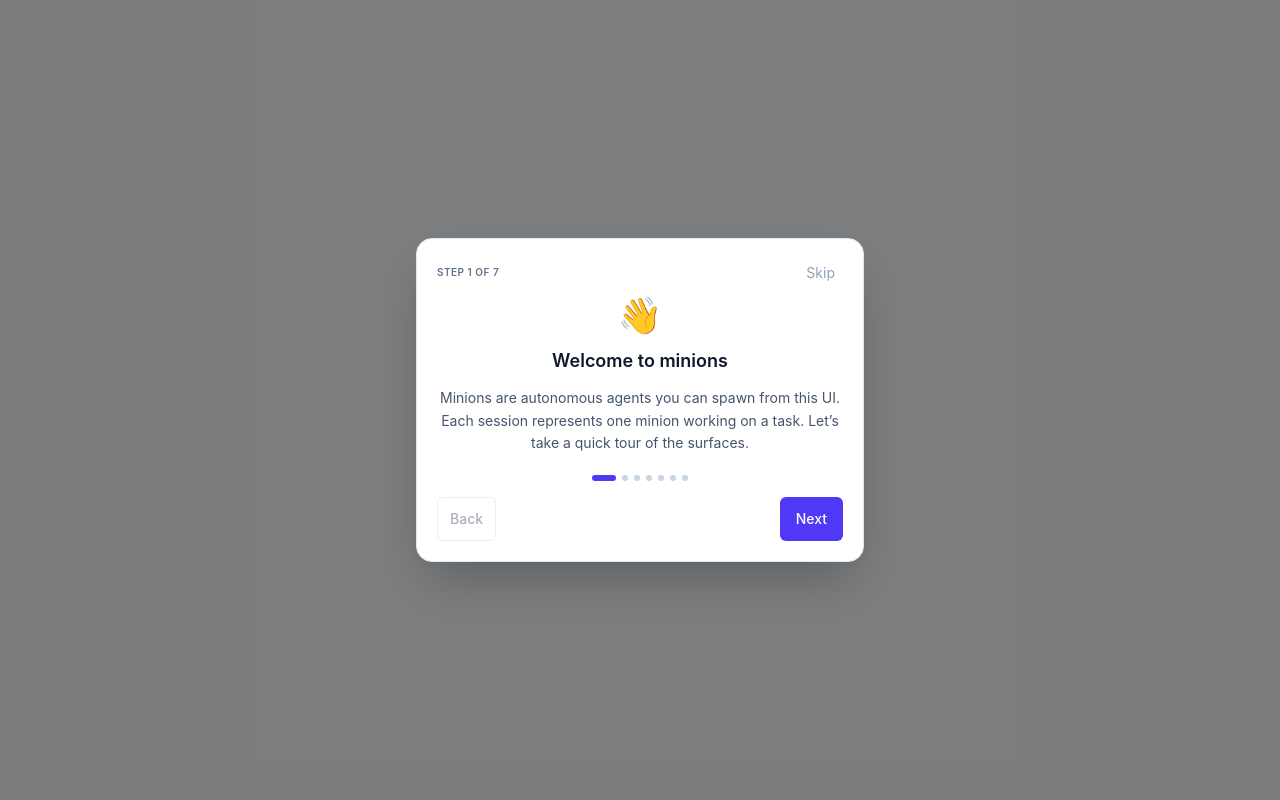
OnboardingTour › clicking a progress dot jumps directly to that step
The width and height of the screenshot is (1280, 800).
What coordinates should you click on to do the following:
click the tab with test id "onboarding-tour-dot-3"
I would click on:
 (649, 478)
Its box is [646, 475, 652, 481].
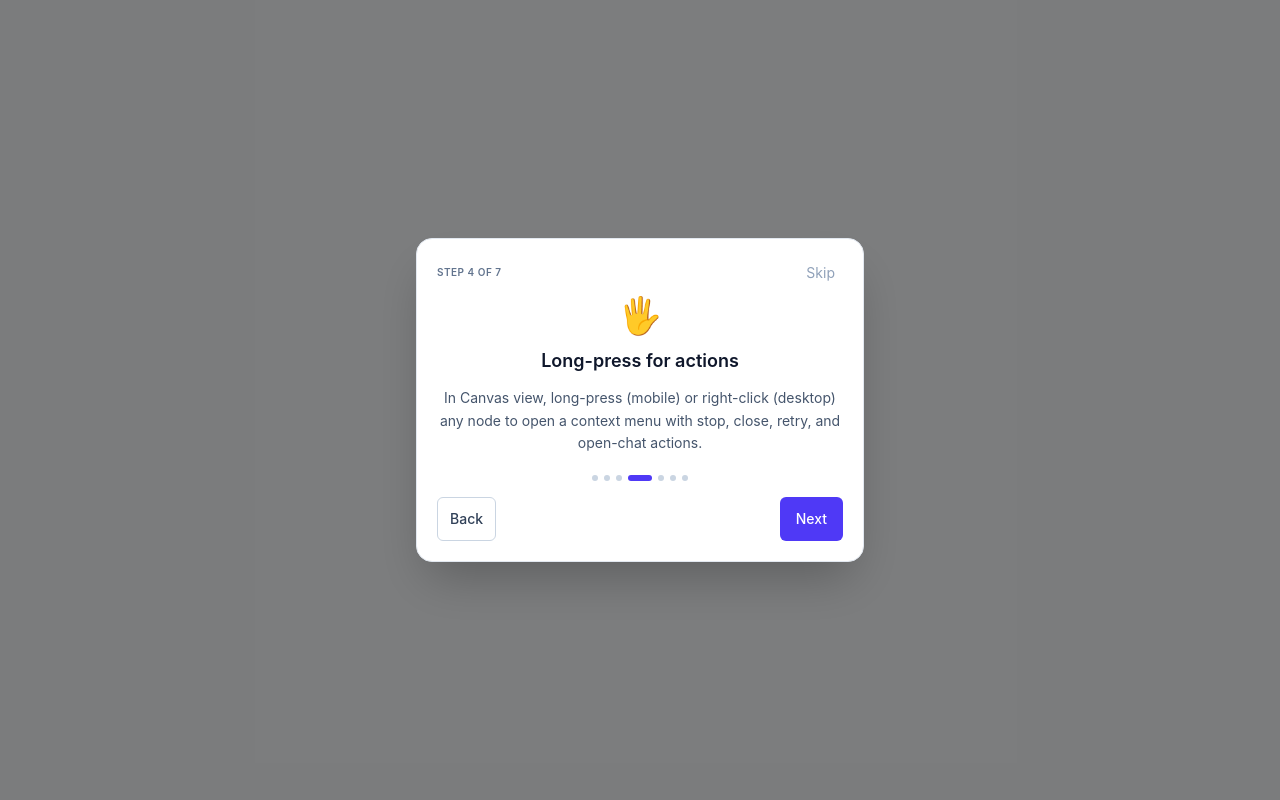
Now the heading with test id "onboarding-tour-title" reads "Long-press for actions", box [541, 350, 739, 371]
